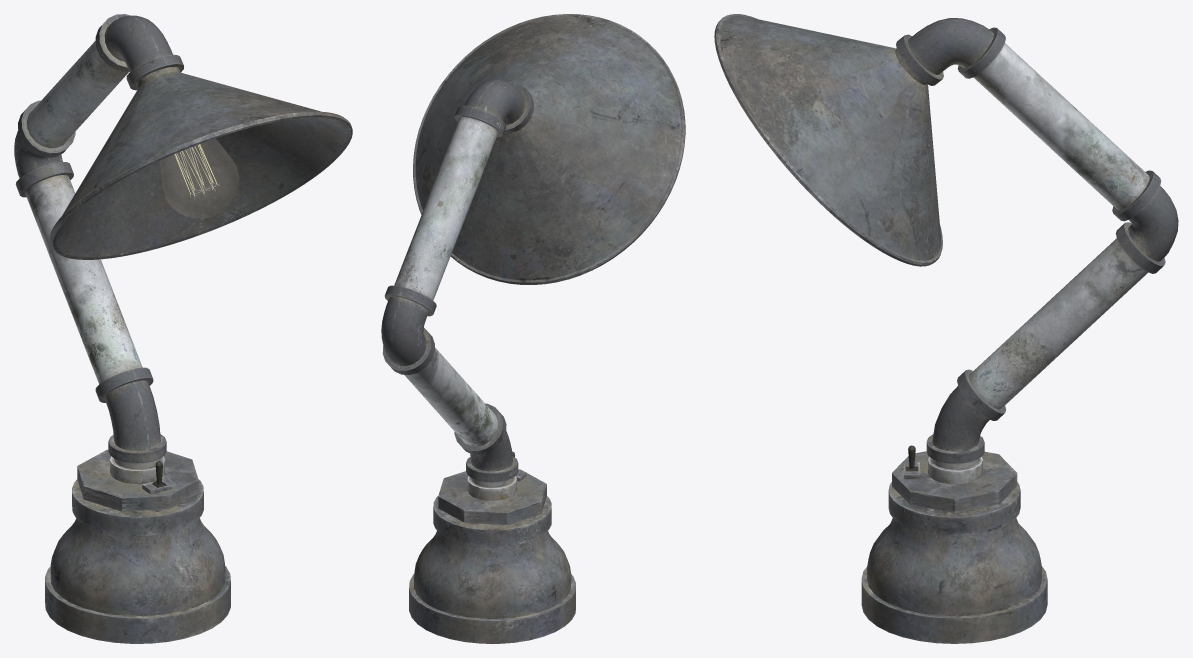
Rendered from boru_lamba.gltf.
3 renders of one model, left to right at view 1: azimuth 30°, elevation 25°; view 2: azimuth 150°, elevation 25°; view 3: azimuth 270°, elevation 25°, orthographic. The views are drawn at different scales.
Visible parts, largest first — view 1: boru_lamba; view 2: boru_lamba; view 3: boru_lamba.
Part boxes in pixels (bbox=[...]): boru_lamba: bbox=[14, 14, 352, 643]; boru_lamba: bbox=[381, 14, 685, 643]; boru_lamba: bbox=[714, 14, 1178, 643].
Size of what is drawn, in the model's own units: 0.183 by 0.3641 by 0.2621.
2 materials, 2 textured.
